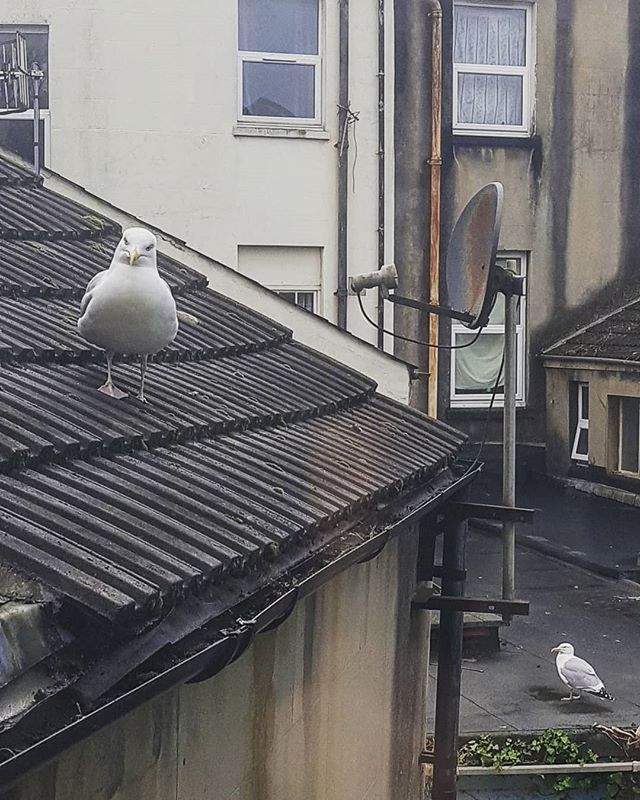animal: (73, 203, 206, 413), (543, 639, 616, 719)
building: (1, 138, 410, 800), (87, 1, 588, 441)
